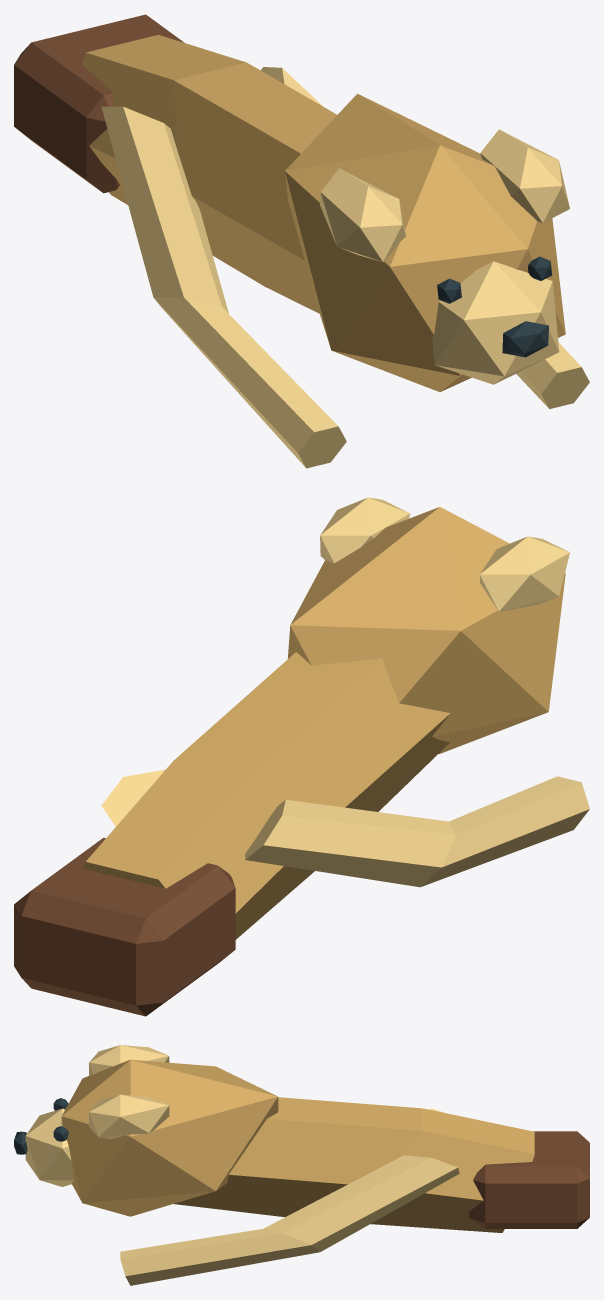
Rendered from lion.glb.
3 views of the same model, one above another, from view 1: azimuth 30°, elevation 25°; view 2: azimuth 150°, elevation 25°; view 3: azimuth 270°, elevation 25° (orthographic). The views are drawn at different scales.
Parts seen in each view (by area): view 1: Lion mane, Lion breast, Swept paw, Stem saddle, Lion muzzle, Lion ear, Lion ear.001, Swept paw.001, Lion nose; view 2: Lion breast, Lion mane, Stem saddle, Swept paw, Lion ear, Lion ear.001, Swept paw.001; view 3: Lion breast, Lion mane, Swept paw.001, Stem saddle, Lion ear.001, Lion muzzle, Lion ear.
Boxes of the visible parts, x1,y1,x2,y2 form: Lion mane: (285,93,565,391); Lion breast: (82,35,336,313); Swept paw: (101,106,346,468); Stem saddle: (14,14,184,193); Lion muzzle: (432,261,559,384); Lion ear: (320,168,405,261); Lion ear.001: (480,129,569,222); Swept paw.001: (260,67,589,408); Lion nose: (502,321,548,357); Lion breast: (82,652,450,939); Lion mane: (287,507,565,753); Stem saddle: (14,837,235,1016); Swept paw: (245,776,589,887); Lion ear: (479,536,569,611); Lion ear.001: (320,497,410,563); Swept paw.001: (101,770,164,826); Lion breast: (174,1097,534,1232); Lion mane: (61,1059,278,1216); Swept paw.001: (120,1155,459,1285); Stem saddle: (469,1131,589,1228); Lion ear.001: (89,1094,169,1139); Lion muzzle: (25,1108,73,1186); Lion ear: (89,1045,169,1075).
Bounding box in the file's own units: 0.84 × 0.7998 × 2.26.
